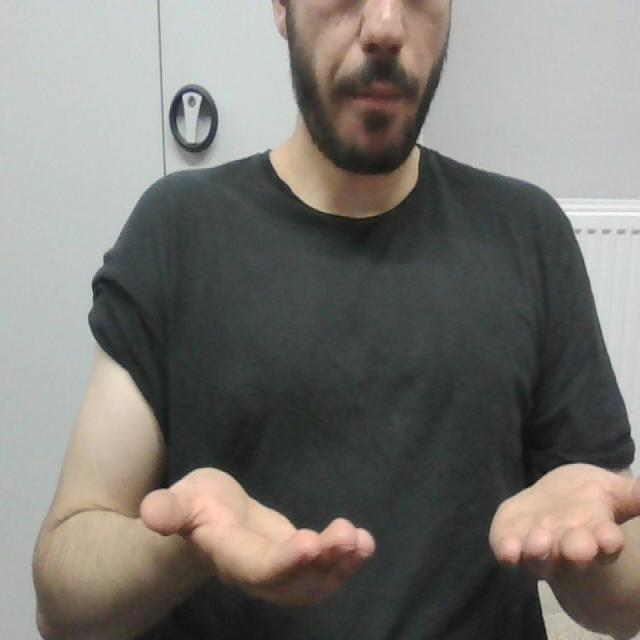Evet: (136, 458, 640, 609)
